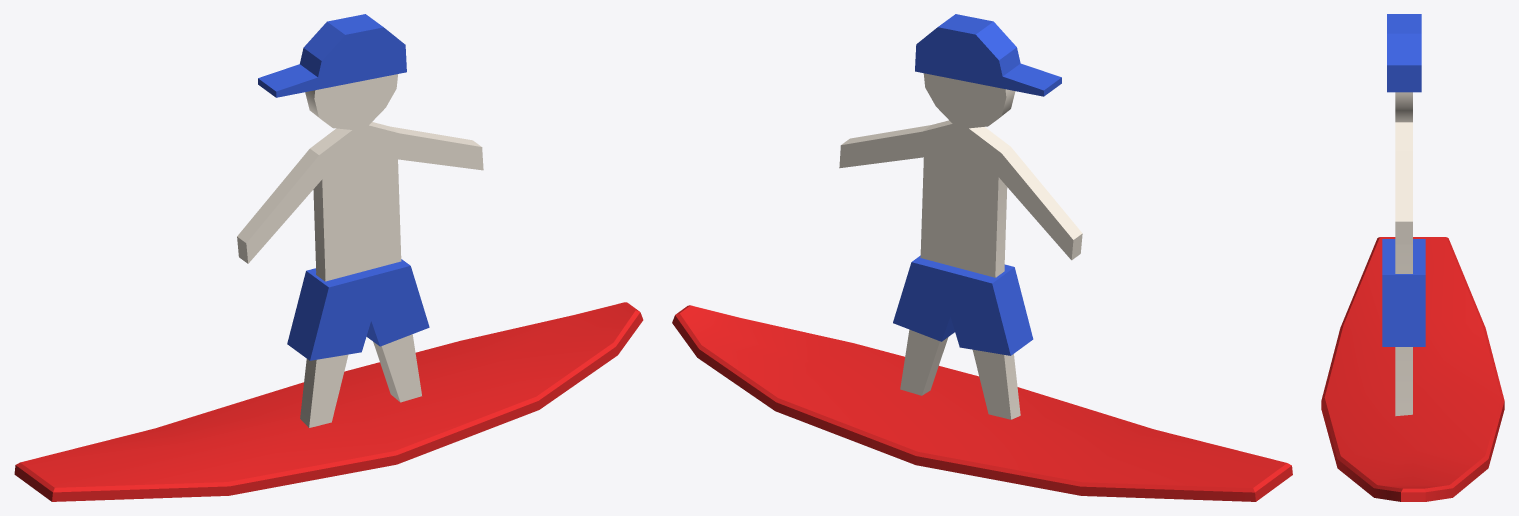
The model's file is Surfer.FBX.
3 views of the same model, side by side, from view 1: azimuth 30°, elevation 25°; view 2: azimuth 150°, elevation 25°; view 3: azimuth 270°, elevation 25° (orthographic). The views are drawn at different scales.
Visible parts, largest first — view 1: Line001; view 2: Line001; view 3: Line001.
Part boxes in pixels (x1,y1,x2,y2): Line001: (14,14,643,501); Line001: (672,14,1292,501); Line001: (1321,14,1504,501).
Size of the model in its own units: 2.97 by 1.96 by 0.8215.
